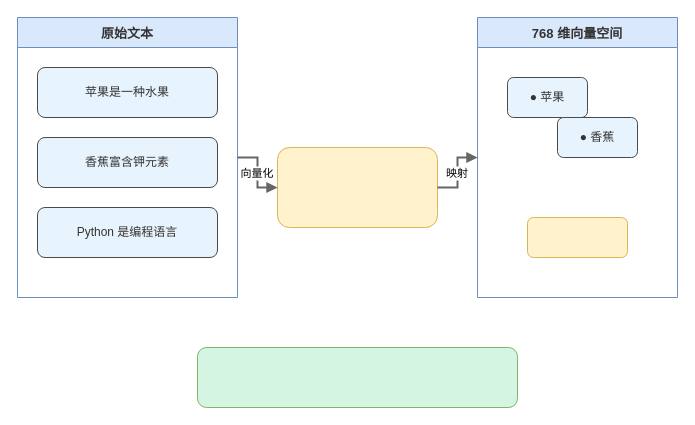
Image size: 695x425. Some labels were removed from this diagram. Each missing label, with the centre of its shape:
● Python: (577,237)
嵌入模型 nomic-embed-text: (357,187)
语义近 → 距离近 语义远 → 距离远: (357,377)
